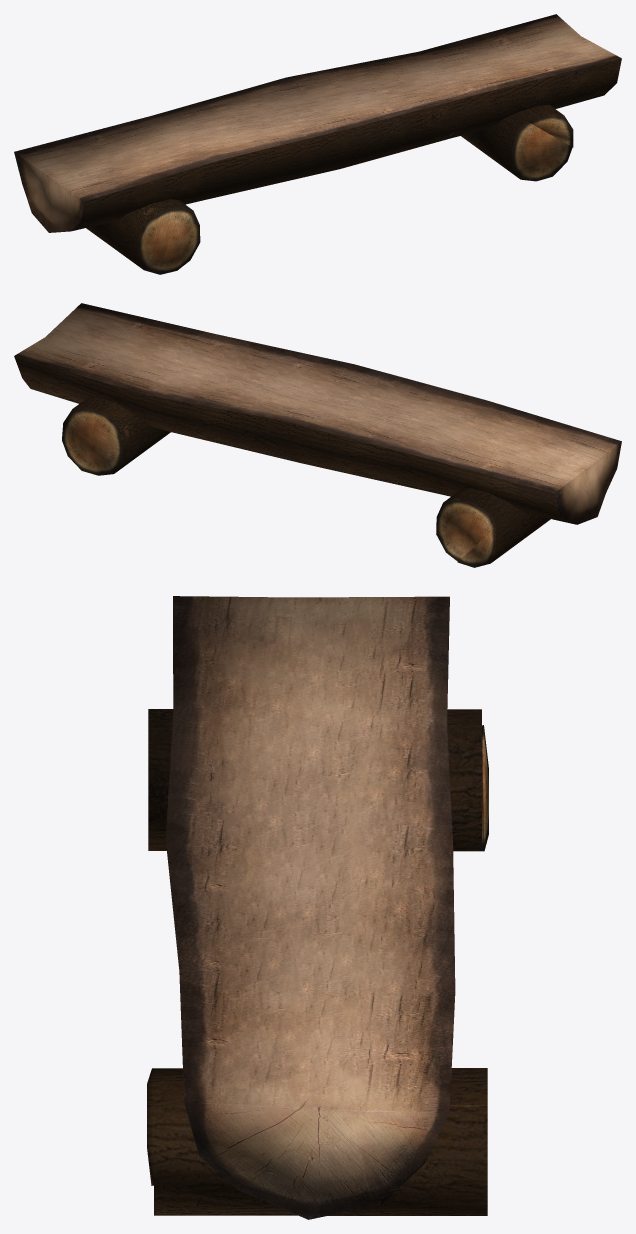
The model's file is camp_log_bench.gltf.
3 views of the same model, one above another, from view 1: azimuth 30°, elevation 25°; view 2: azimuth 150°, elevation 25°; view 3: azimuth 270°, elevation 25° (orthographic). The views are drawn at different scales.
Visible parts, largest first — view 1: Bench01; view 2: Bench01; view 3: Bench01.
Boxes of the visible parts, left/top/right/bottom form: Bench01: left=14, top=14, right=621, bottom=274; Bench01: left=14, top=303, right=621, bottom=567; Bench01: left=147, top=596, right=488, bottom=1219.
Bounding box in the file's own units: 261 × 43.69 × 70.89.
1 material, 1 textured.
